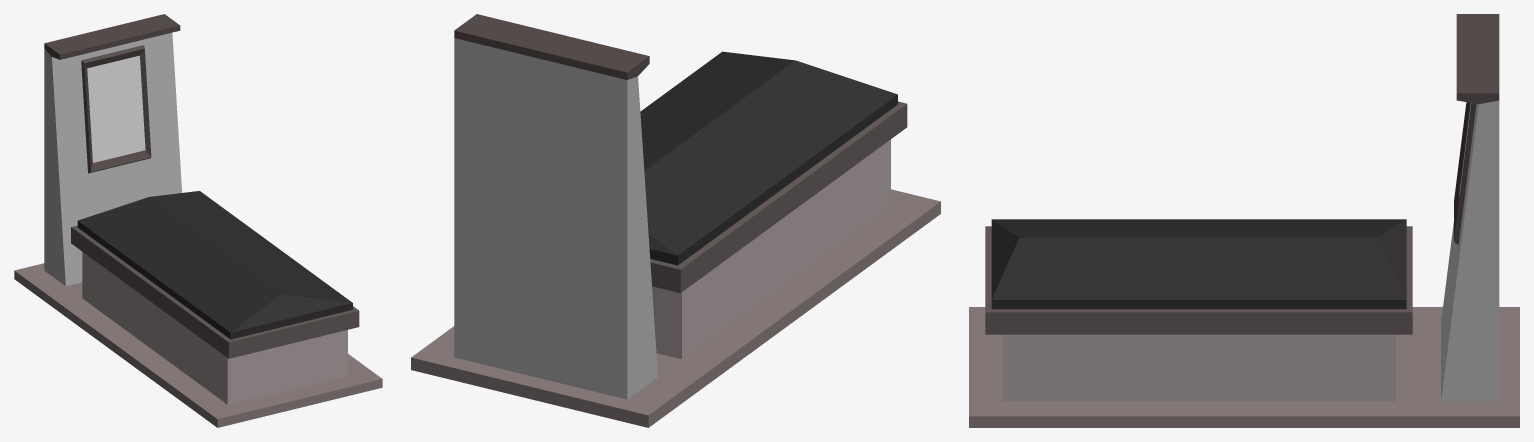
The model's file is HWN20_Grave_33.glb.
3 views of the same model, side by side, from view 1: azimuth 30°, elevation 25°; view 2: azimuth 150°, elevation 25°; view 3: azimuth 270°, elevation 25° (orthographic). The views are drawn at different scales.
Parts seen in each view (by area): view 1: HWN20_Grave_33; view 2: HWN20_Grave_33; view 3: HWN20_Grave_33.
Part boxes in pixels (bbox=[...]): HWN20_Grave_33: bbox=[14, 14, 382, 427]; HWN20_Grave_33: bbox=[411, 14, 940, 427]; HWN20_Grave_33: bbox=[969, 14, 1519, 427].
Size of what is drawn, in the model's own units: 0.9895 by 1.35 by 2.11.
Materials: 1 (1 with a texture image).
